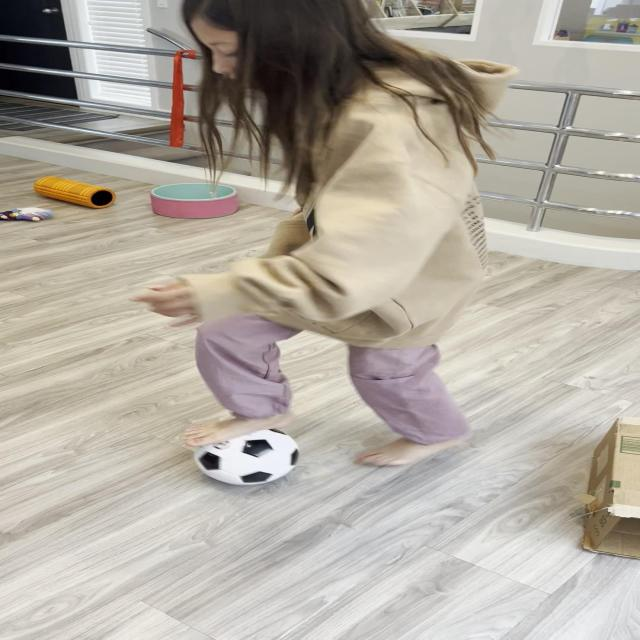Soccer Ball: (193, 426, 302, 484)
